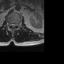CCS_normal: (12, 21, 14, 29)
LFS_normal: (16, 22, 18, 27)
LLS_normal: (14, 22, 16, 28)
RFS_normal: (8, 21, 10, 27)
RLS_normal: (10, 22, 12, 27)
